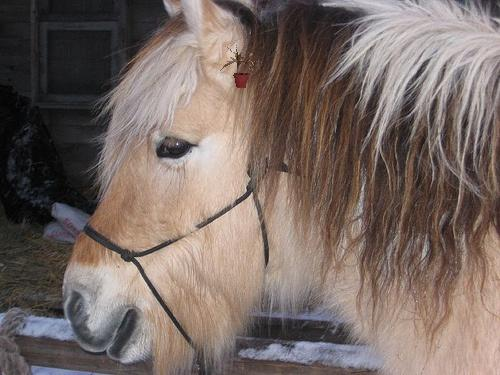tampered: (221, 45, 263, 88)
